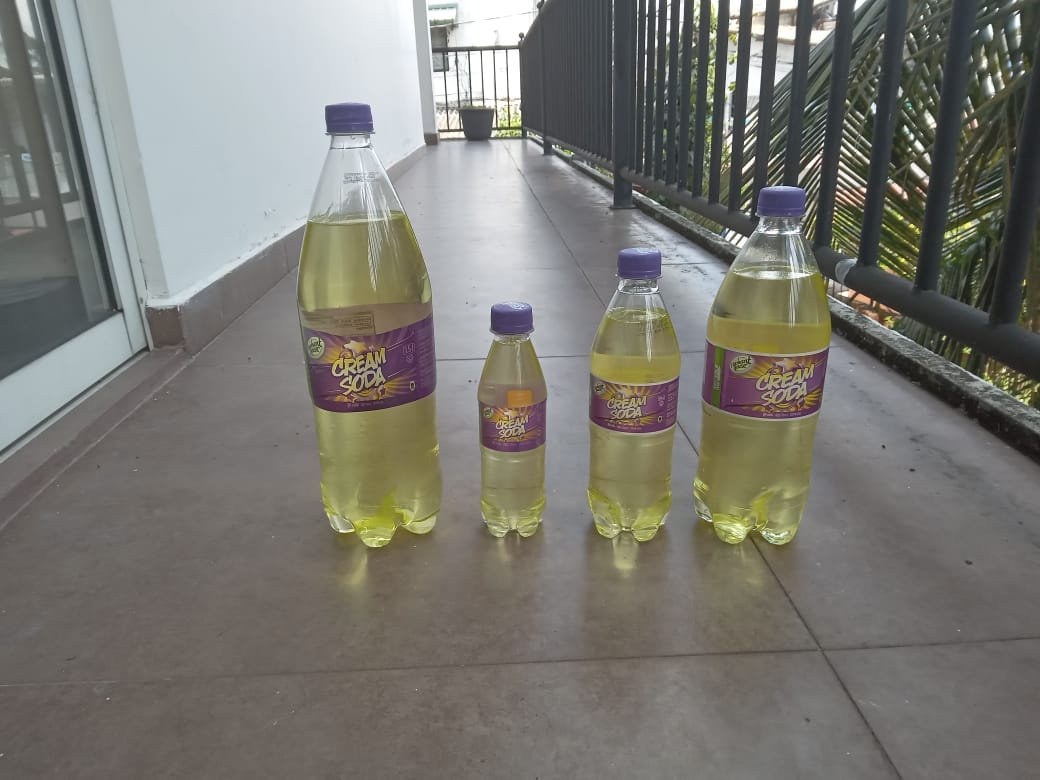L: (294, 102, 442, 550)
M: (693, 185, 833, 550)
S: (586, 244, 682, 548)
Xs: (472, 299, 552, 543)
